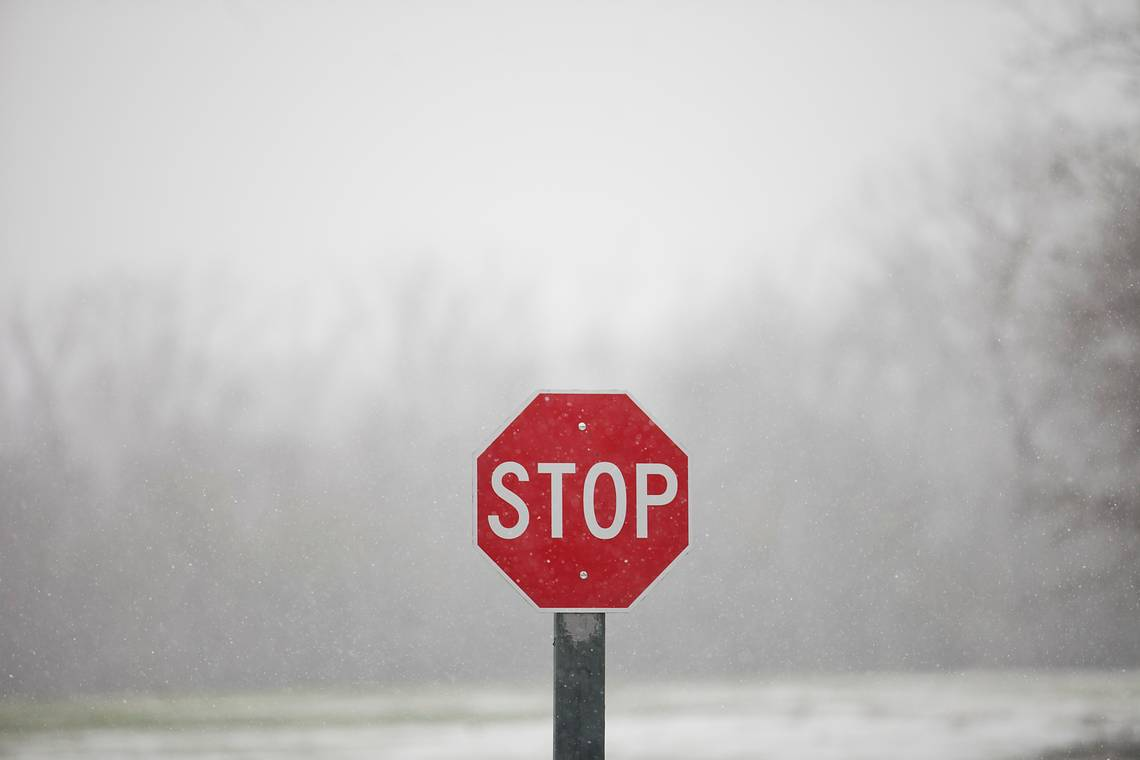stop_sign: (471, 385, 696, 611)
